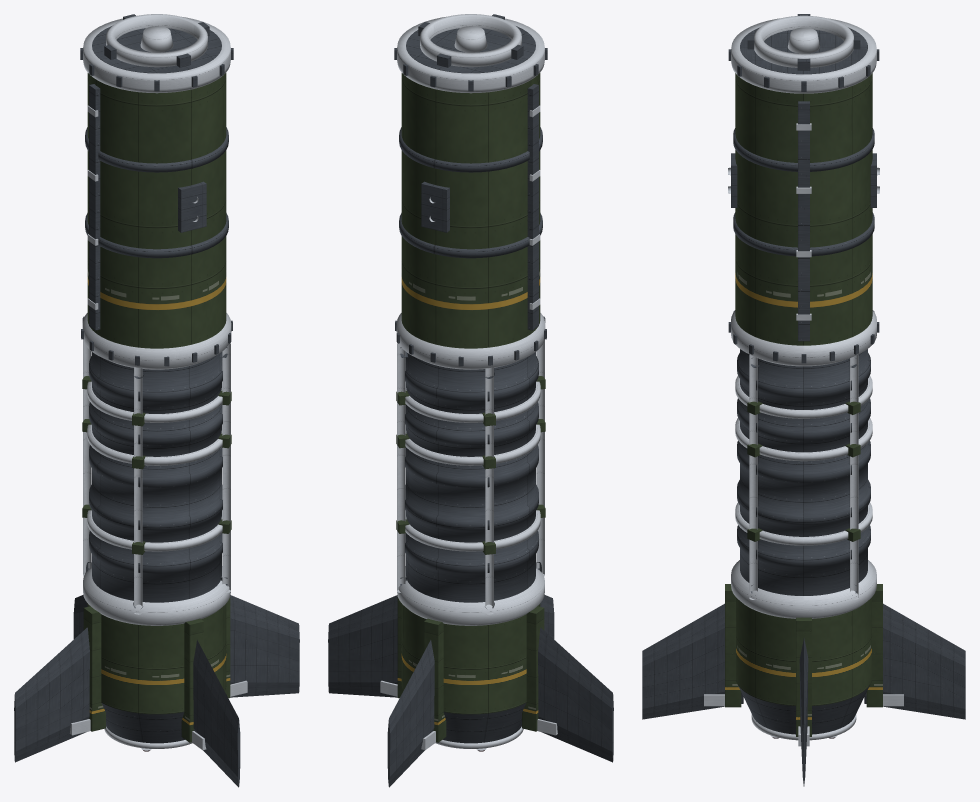
The model's file is light_icbm_central_body.glb.
3 renders of one model, left to right at view 1: azimuth 30°, elevation 25°; view 2: azimuth 150°, elevation 25°; view 3: azimuth 270°, elevation 25°, orthographic.
Visible parts, largest first — view 1: Light_ICBM_Missile; view 2: Light_ICBM_Missile; view 3: Light_ICBM_Missile.
Boxes of the visible parts, x1,y1,x2,y2 form: Light_ICBM_Missile: (14, 14, 299, 787); Light_ICBM_Missile: (328, 14, 613, 787); Light_ICBM_Missile: (642, 14, 965, 786).
Size of the model in its own units: 1.11 by 2.62 by 1.11.
4 materials, 4 textured.
